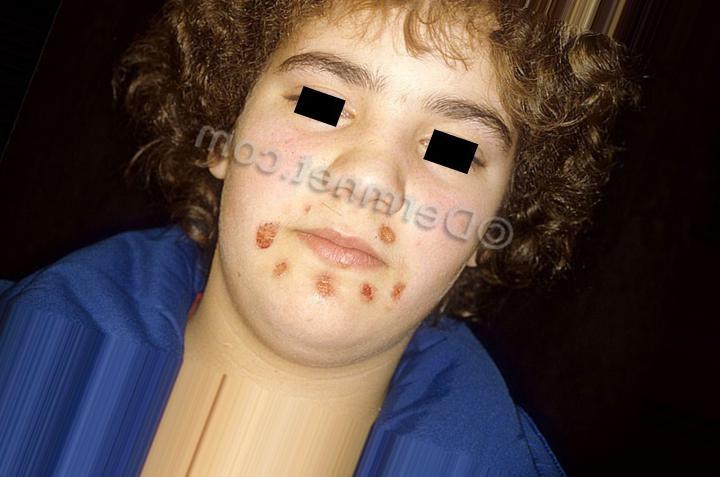Acne: (346, 278, 394, 313), (255, 222, 297, 251), (390, 276, 415, 308), (369, 230, 413, 248), (290, 203, 327, 223), (263, 258, 296, 275), (312, 276, 337, 296)
